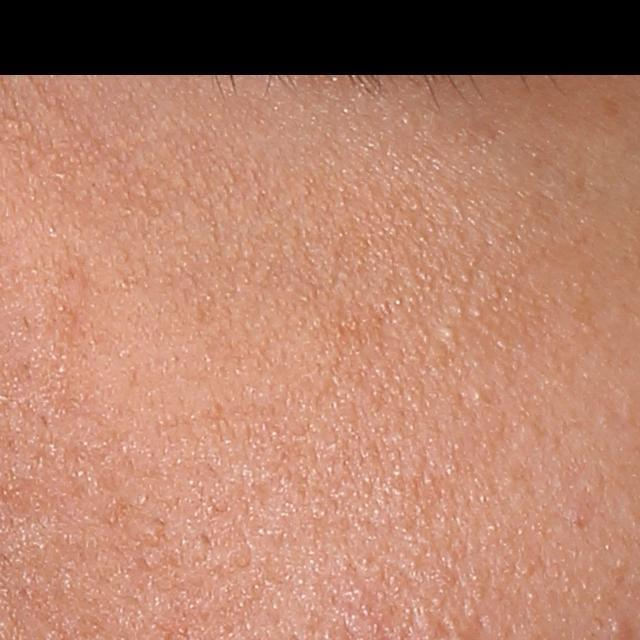comedo: (440, 324, 456, 342)
melasma: (598, 94, 623, 120)
